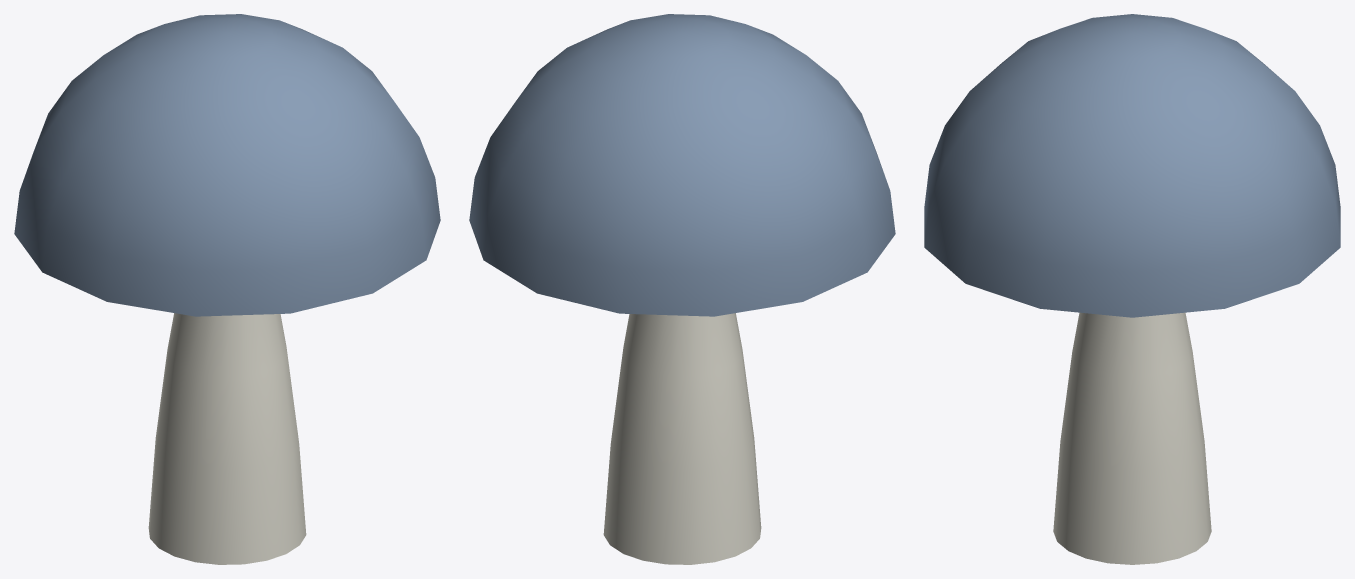
Rendered from MushroomBlauwGroot.fbx.
3 views of the same model, side by side, from view 1: azimuth 30°, elevation 25°; view 2: azimuth 150°, elevation 25°; view 3: azimuth 270°, elevation 25° (orthographic).
Visible parts, largest first — view 1: polySurface3405; view 2: polySurface3405; view 3: polySurface3405.
Boxes of the visible parts, box(x1,y1,x2,y2) form: polySurface3405: box(14, 14, 440, 564); polySurface3405: box(469, 14, 895, 564); polySurface3405: box(924, 14, 1340, 564).
Size of the model in its own units: 0.0878 by 0.1129 by 0.0856.
